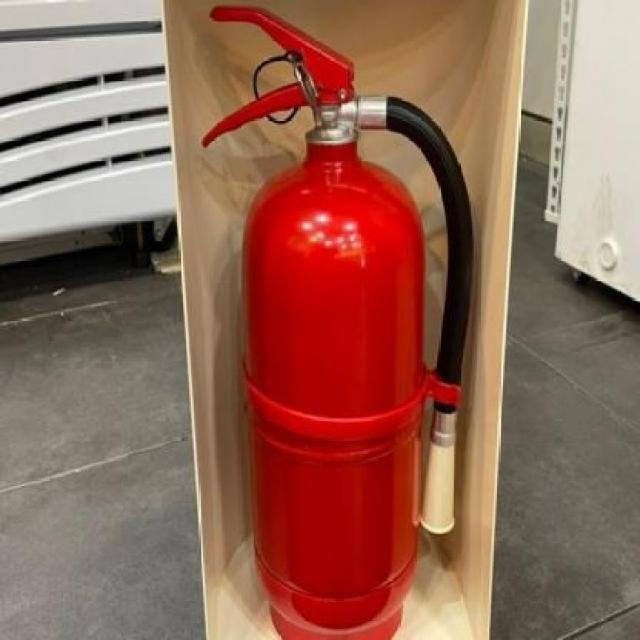fire extinguisher: (202, 4, 474, 640)
